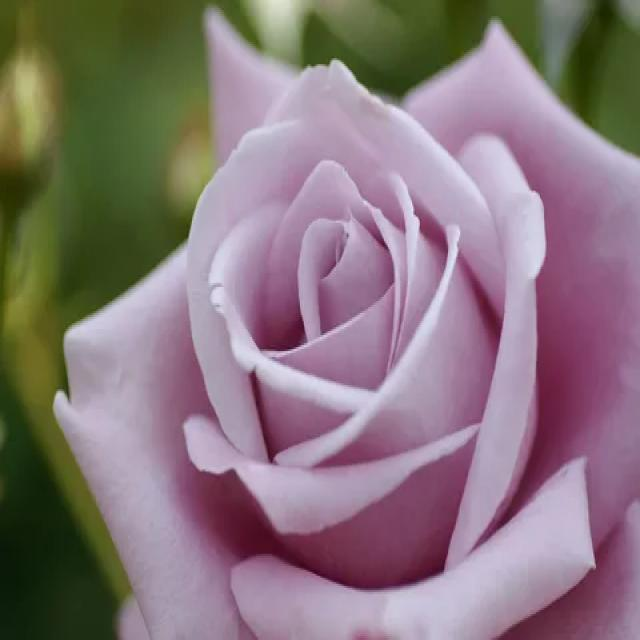rose: (46, 0, 640, 640)
